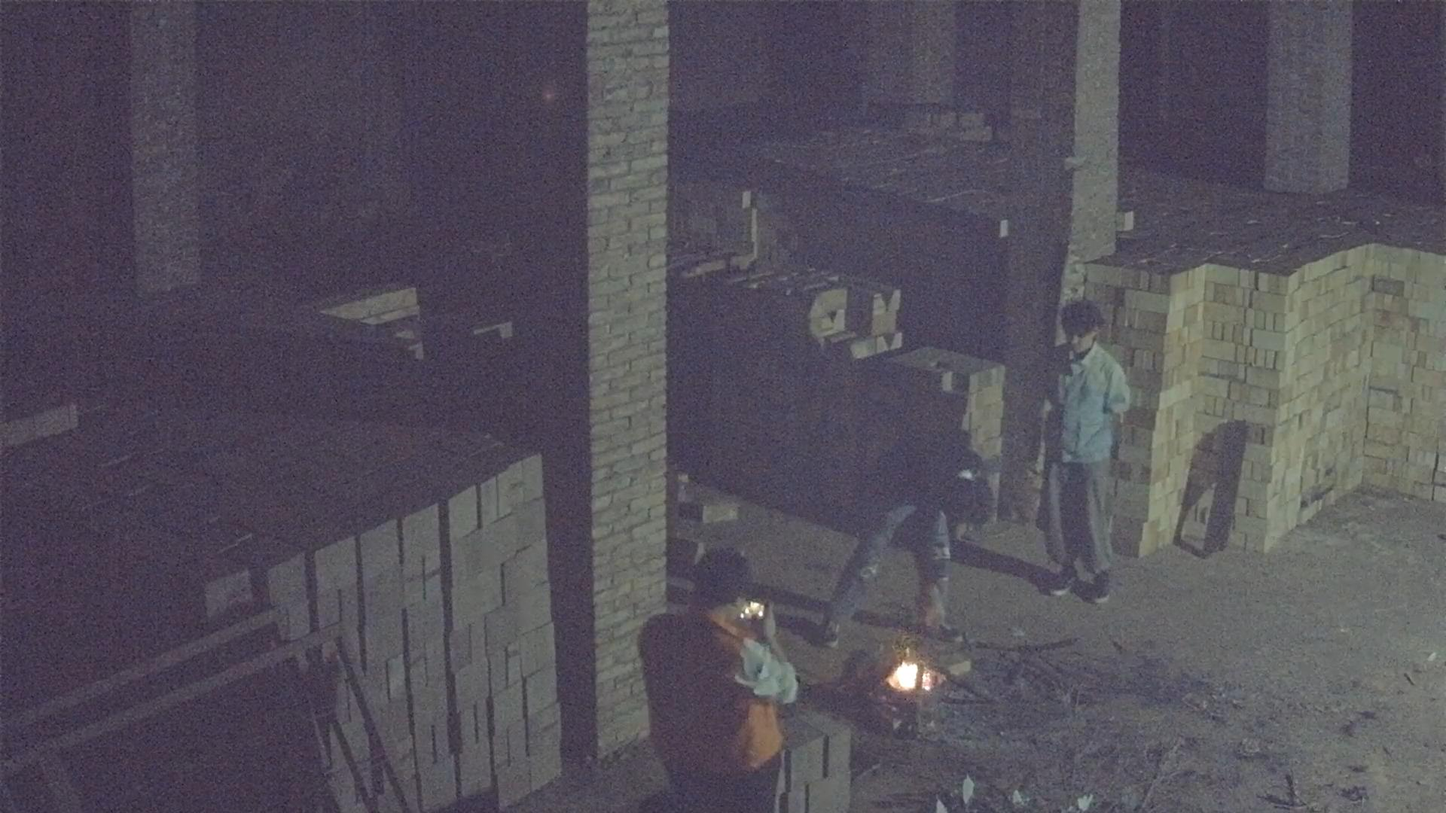fire: (885, 659, 944, 696)
